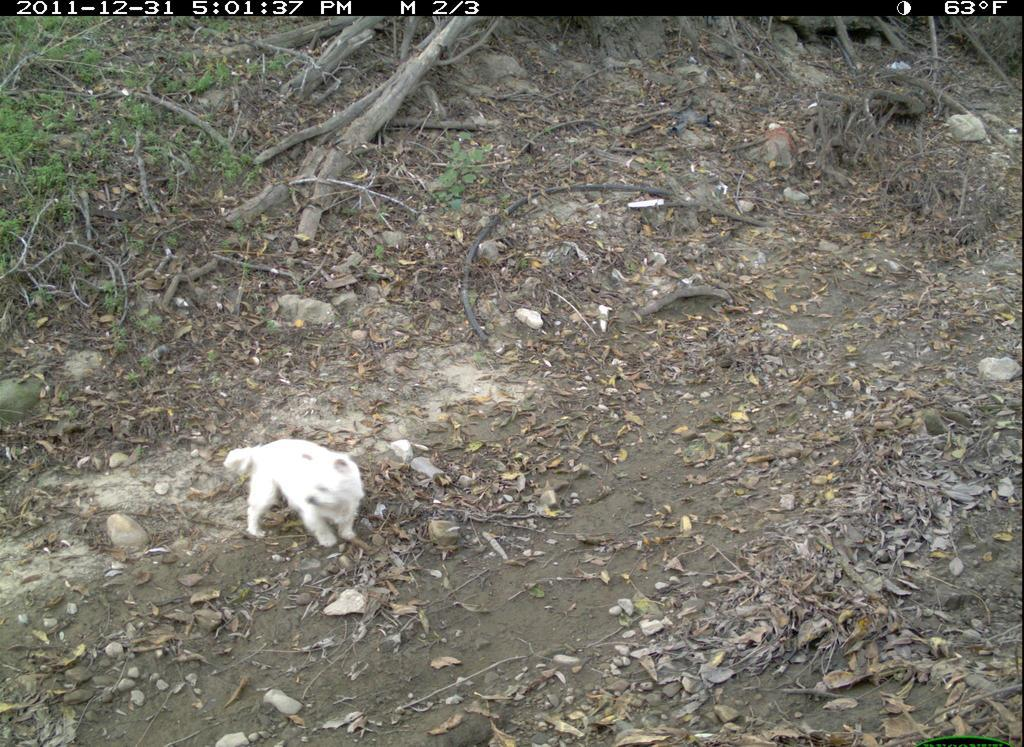dog: (131, 423, 383, 571)
